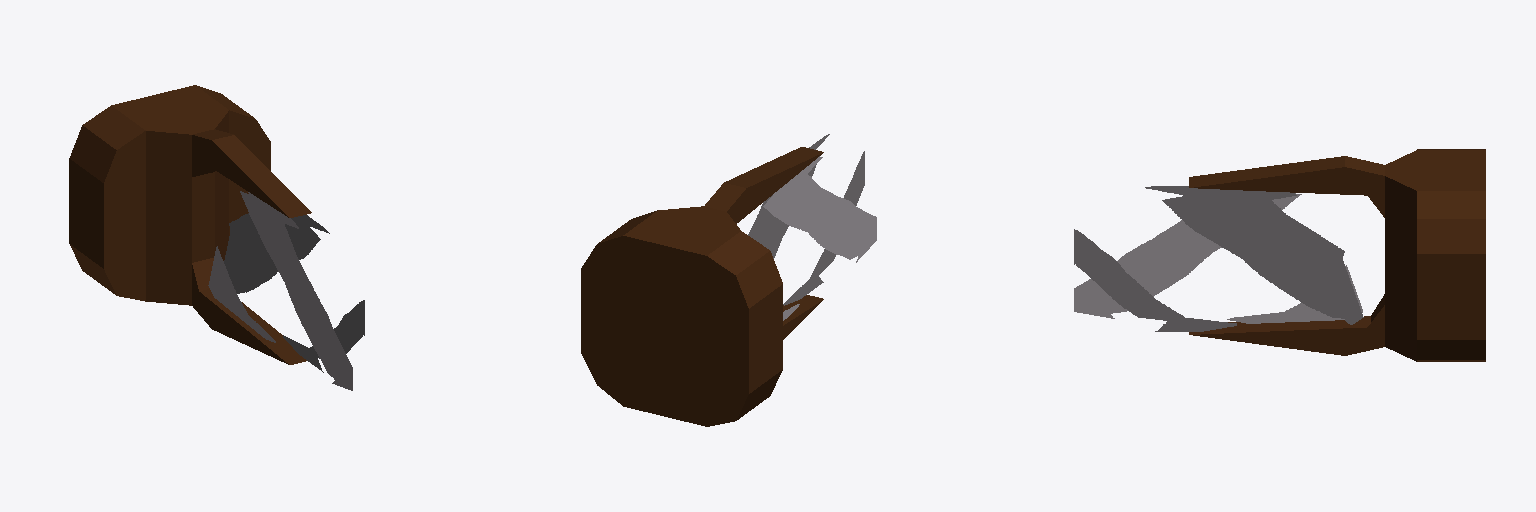
3 views of the same model, side by side, from view 1: azimuth 30°, elevation 25°; view 2: azimuth 150°, elevation 25°; view 3: azimuth 270°, elevation 25° (orthographic).
Visible parts, largest first — view 1: Cube.001_Cube.001_Material.001, Cube_Cube.002_Material.002; view 2: Cube.001_Cube.001_Material.001, Cube_Cube.002_Material.002; view 3: Cube.001_Cube.001_Material.001, Cube_Cube.002_Material.002.
Part boxes in pixels (bbox=[...]): Cube.001_Cube.001_Material.001: bbox=[69, 85, 311, 364]; Cube_Cube.002_Material.002: bbox=[208, 191, 364, 390]; Cube.001_Cube.001_Material.001: bbox=[581, 147, 823, 426]; Cube_Cube.002_Material.002: bbox=[748, 134, 876, 320]; Cube.001_Cube.001_Material.001: bbox=[1189, 149, 1485, 361]; Cube_Cube.002_Material.002: bbox=[1074, 186, 1363, 331].
Bounding box in the file's own units: 1.03 × 1.11 × 2.2.
Materials: 2 (1 with a texture image).